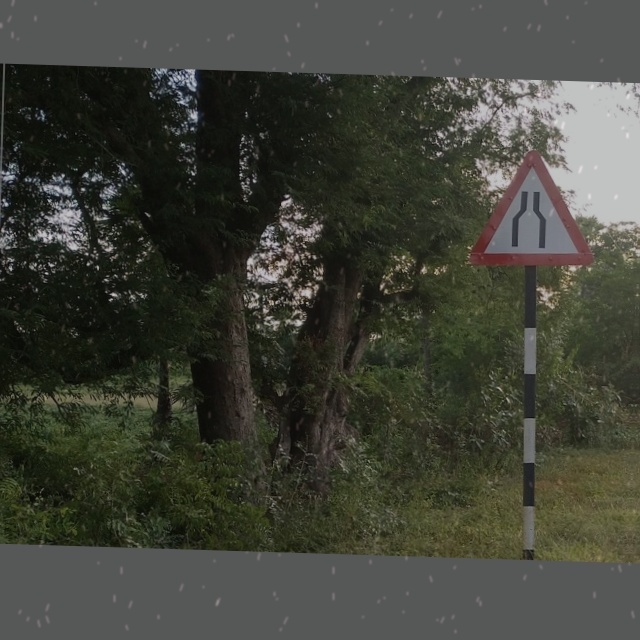Narrow_Road_Ahead: (467, 147, 599, 270)
